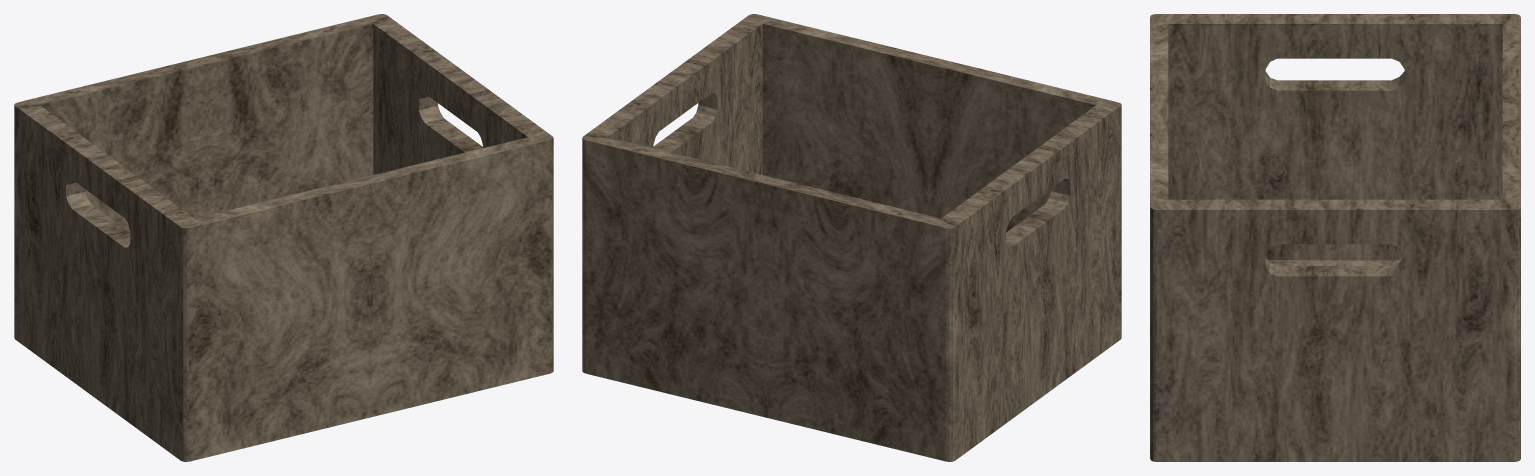
File: caixa.fbx
The picture shows the model from 3 angles, left to right: view 1: azimuth 30°, elevation 25°; view 2: azimuth 150°, elevation 25°; view 3: azimuth 270°, elevation 25°; orthographic projection. The views are drawn at different scales.
Parts seen in each view (by area): view 1: Caixa; view 2: Caixa; view 3: Caixa.
Part boxes in pixels (x1=…): Caixa: x1=14, y1=14, x2=553, y2=461; Caixa: x1=582, y1=14, x2=1121, y2=461; Caixa: x1=1150, y1=14, x2=1520, y2=461.
Size of the model in its own units: 50 by 30 by 40.
